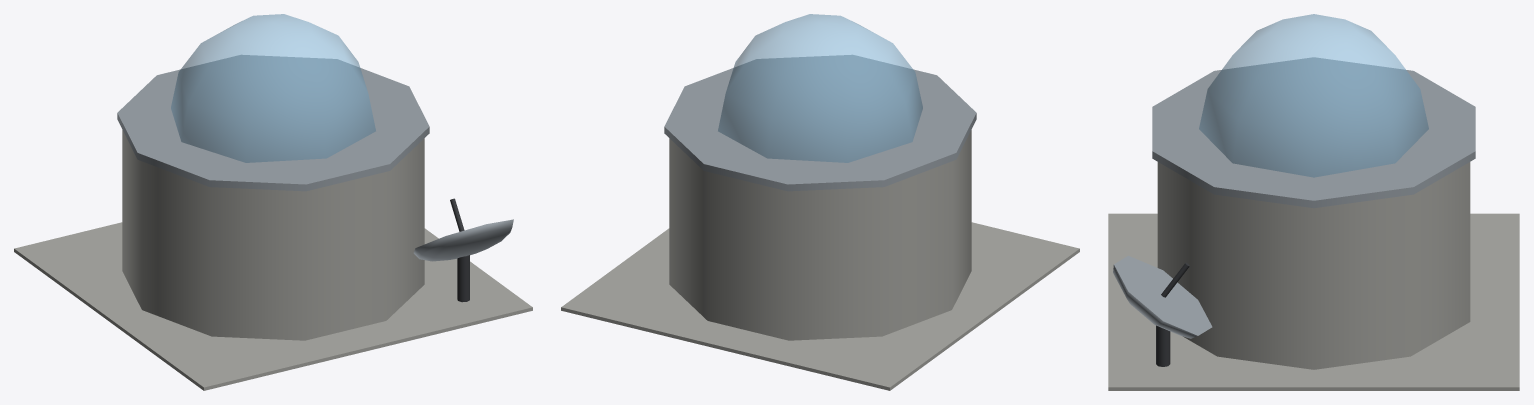
File: bld_special_research_center_a06_lod1.glb
3 renders of one model, left to right at view 1: azimuth 30°, elevation 25°; view 2: azimuth 150°, elevation 25°; view 3: azimuth 270°, elevation 25°, orthographic. The views are drawn at different scales.
Visible parts, largest first — view 1: body, antenna; view 2: body; view 3: body, antenna.
Part boxes in pixels (<box>): body: <box>14,14,532,390</box>; antenna: <box>413,198,513,302</box>; body: <box>561,14,1079,390</box>; body: <box>1108,14,1519,390</box>; antenna: <box>1113,255,1212,366</box>.
Bounding box in the file's own units: 15.2 × 11.25 × 15.
